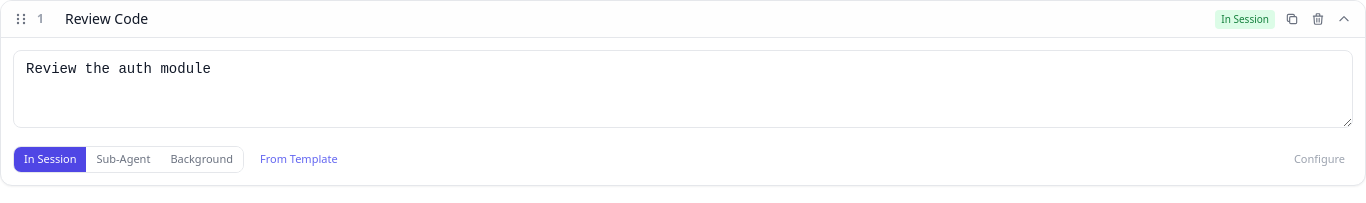
Test: StepCard › shows confirm step before delete
The width and height of the screenshot is (1366, 203).
First click shows confirmation
What coordinates should you click on to do the following:
click the button titled "Delete"
I would click on:
 (1318, 19)
Its box is [1309,10,1327,28].
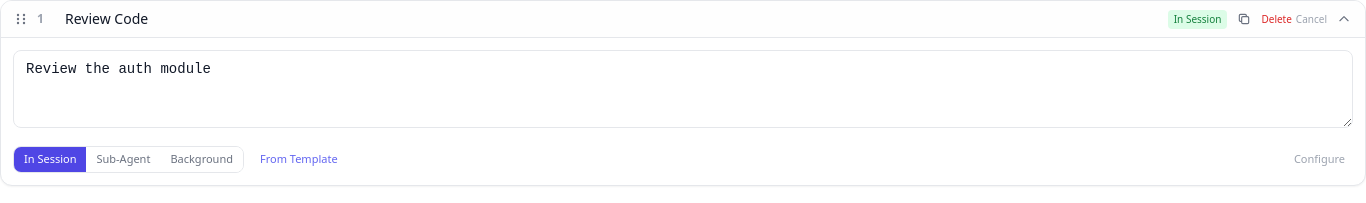
Expected: the button "Delete" is shown, [1261,12,1292,26]
Expected: the button "Cancel" is shown, [1296,12,1327,26]
